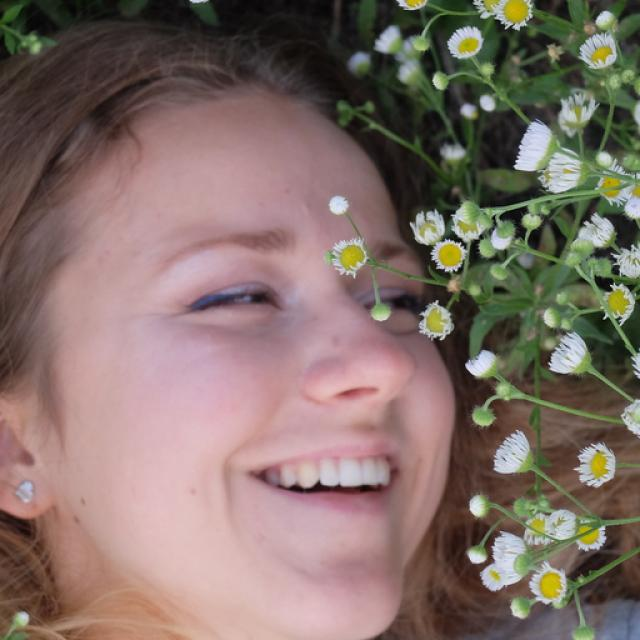happy: (59, 87, 460, 640)
